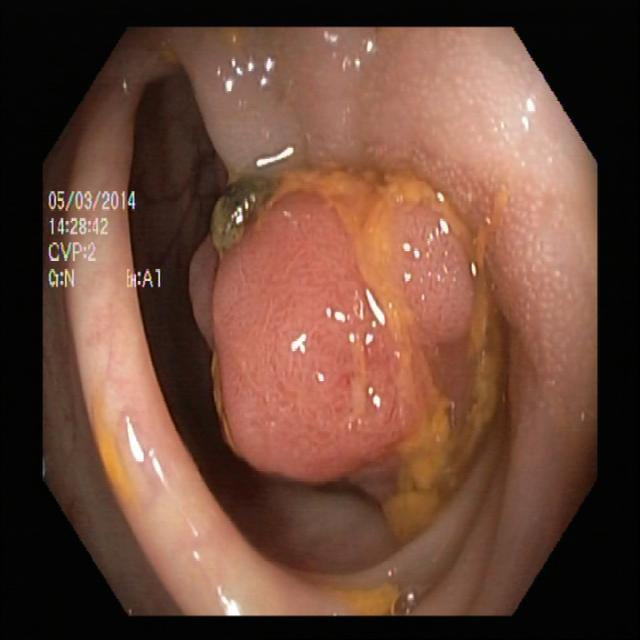Polyps: (192, 166, 505, 549)
